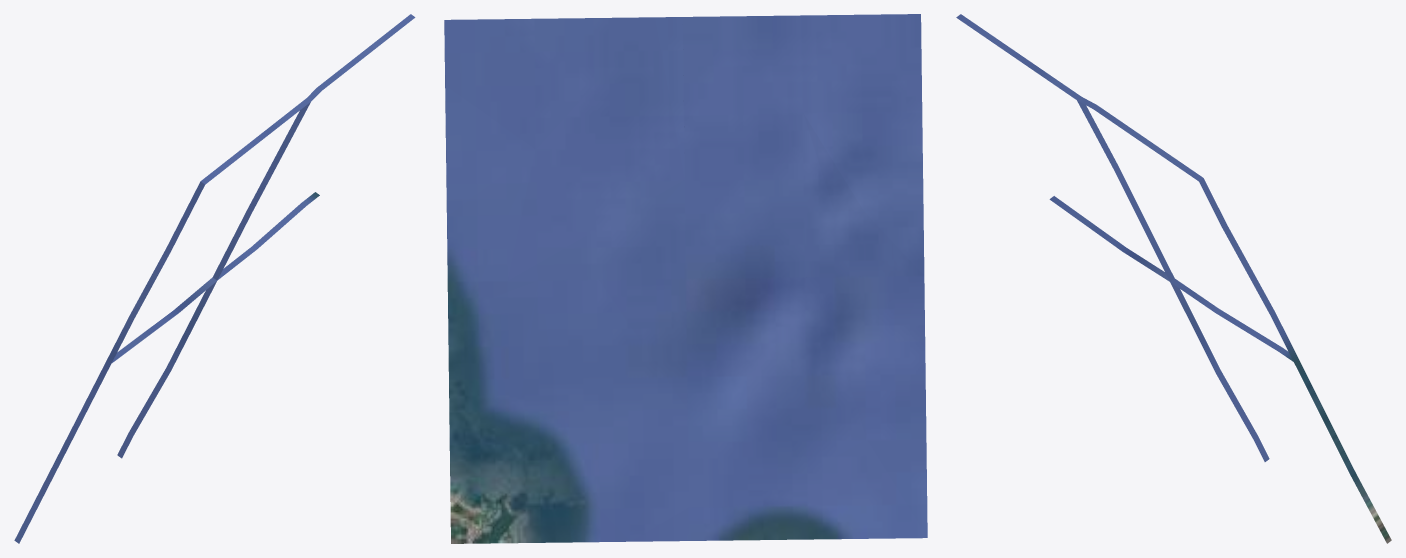
The picture shows the model from 3 angles, left to right: view 1: azimuth 30°, elevation 25°; view 2: azimuth 150°, elevation 25°; view 3: azimuth 270°, elevation 25°; orthographic projection. The views are drawn at different scales.
Size of the model in its own units: 9806 by 8881 by 8427.
Materials: 1 (1 with a texture image).
